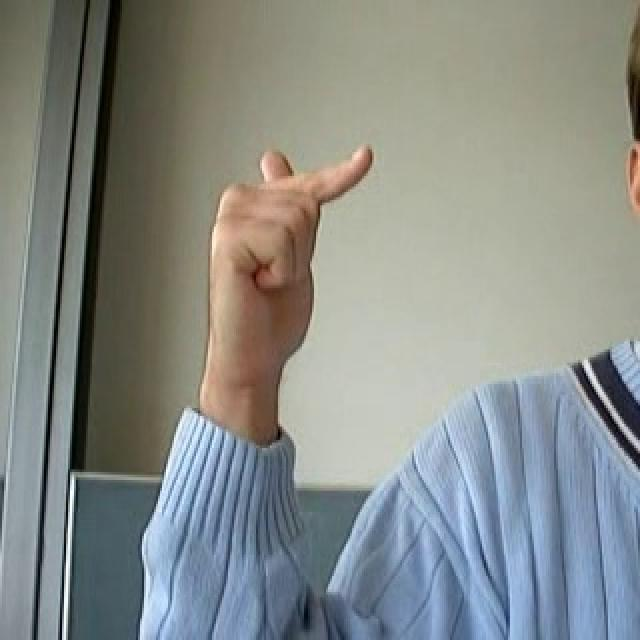T: (185, 101, 402, 390)
